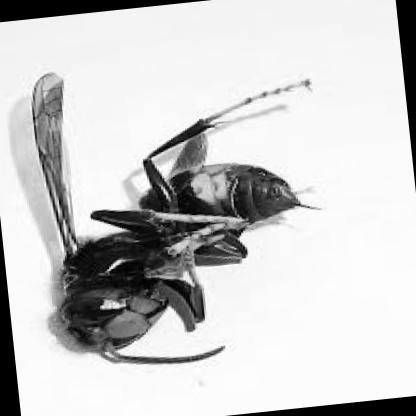asian: (21, 36, 360, 370)
